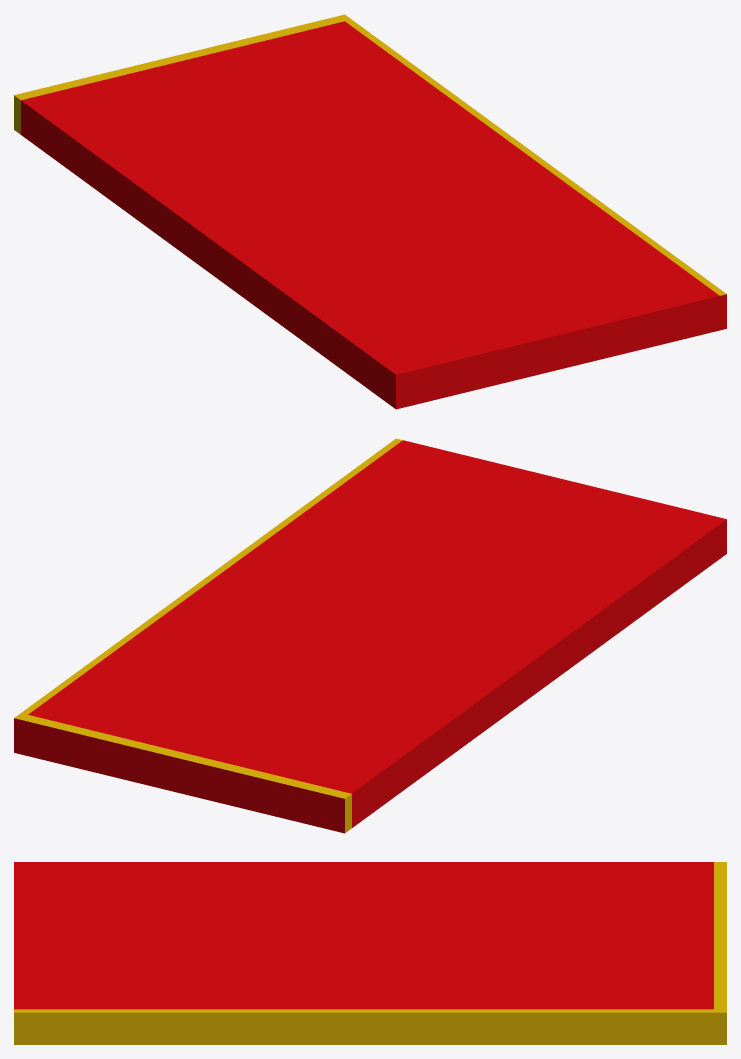
The model's file is tapis droite.fbx.
The picture shows the model from 3 angles, top to bottom: view 1: azimuth 30°, elevation 25°; view 2: azimuth 150°, elevation 25°; view 3: azimuth 270°, elevation 25°; orthographic projection. The views are drawn at different scales.
Parts seen in each view (by area): view 1: Cube; view 2: Cube; view 3: Cube.
Boxes of the visible parts, x1,y1,x2,y2 form: Cube: (14,14,726,409); Cube: (14,438,726,833); Cube: (14,862,726,1044).
Size of the model in its own units: 600 by 60 by 1200.
